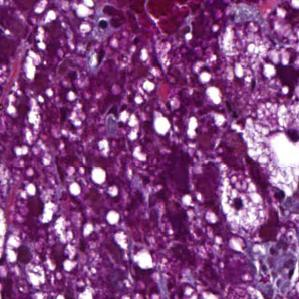ballooning: (254, 124, 299, 197)
